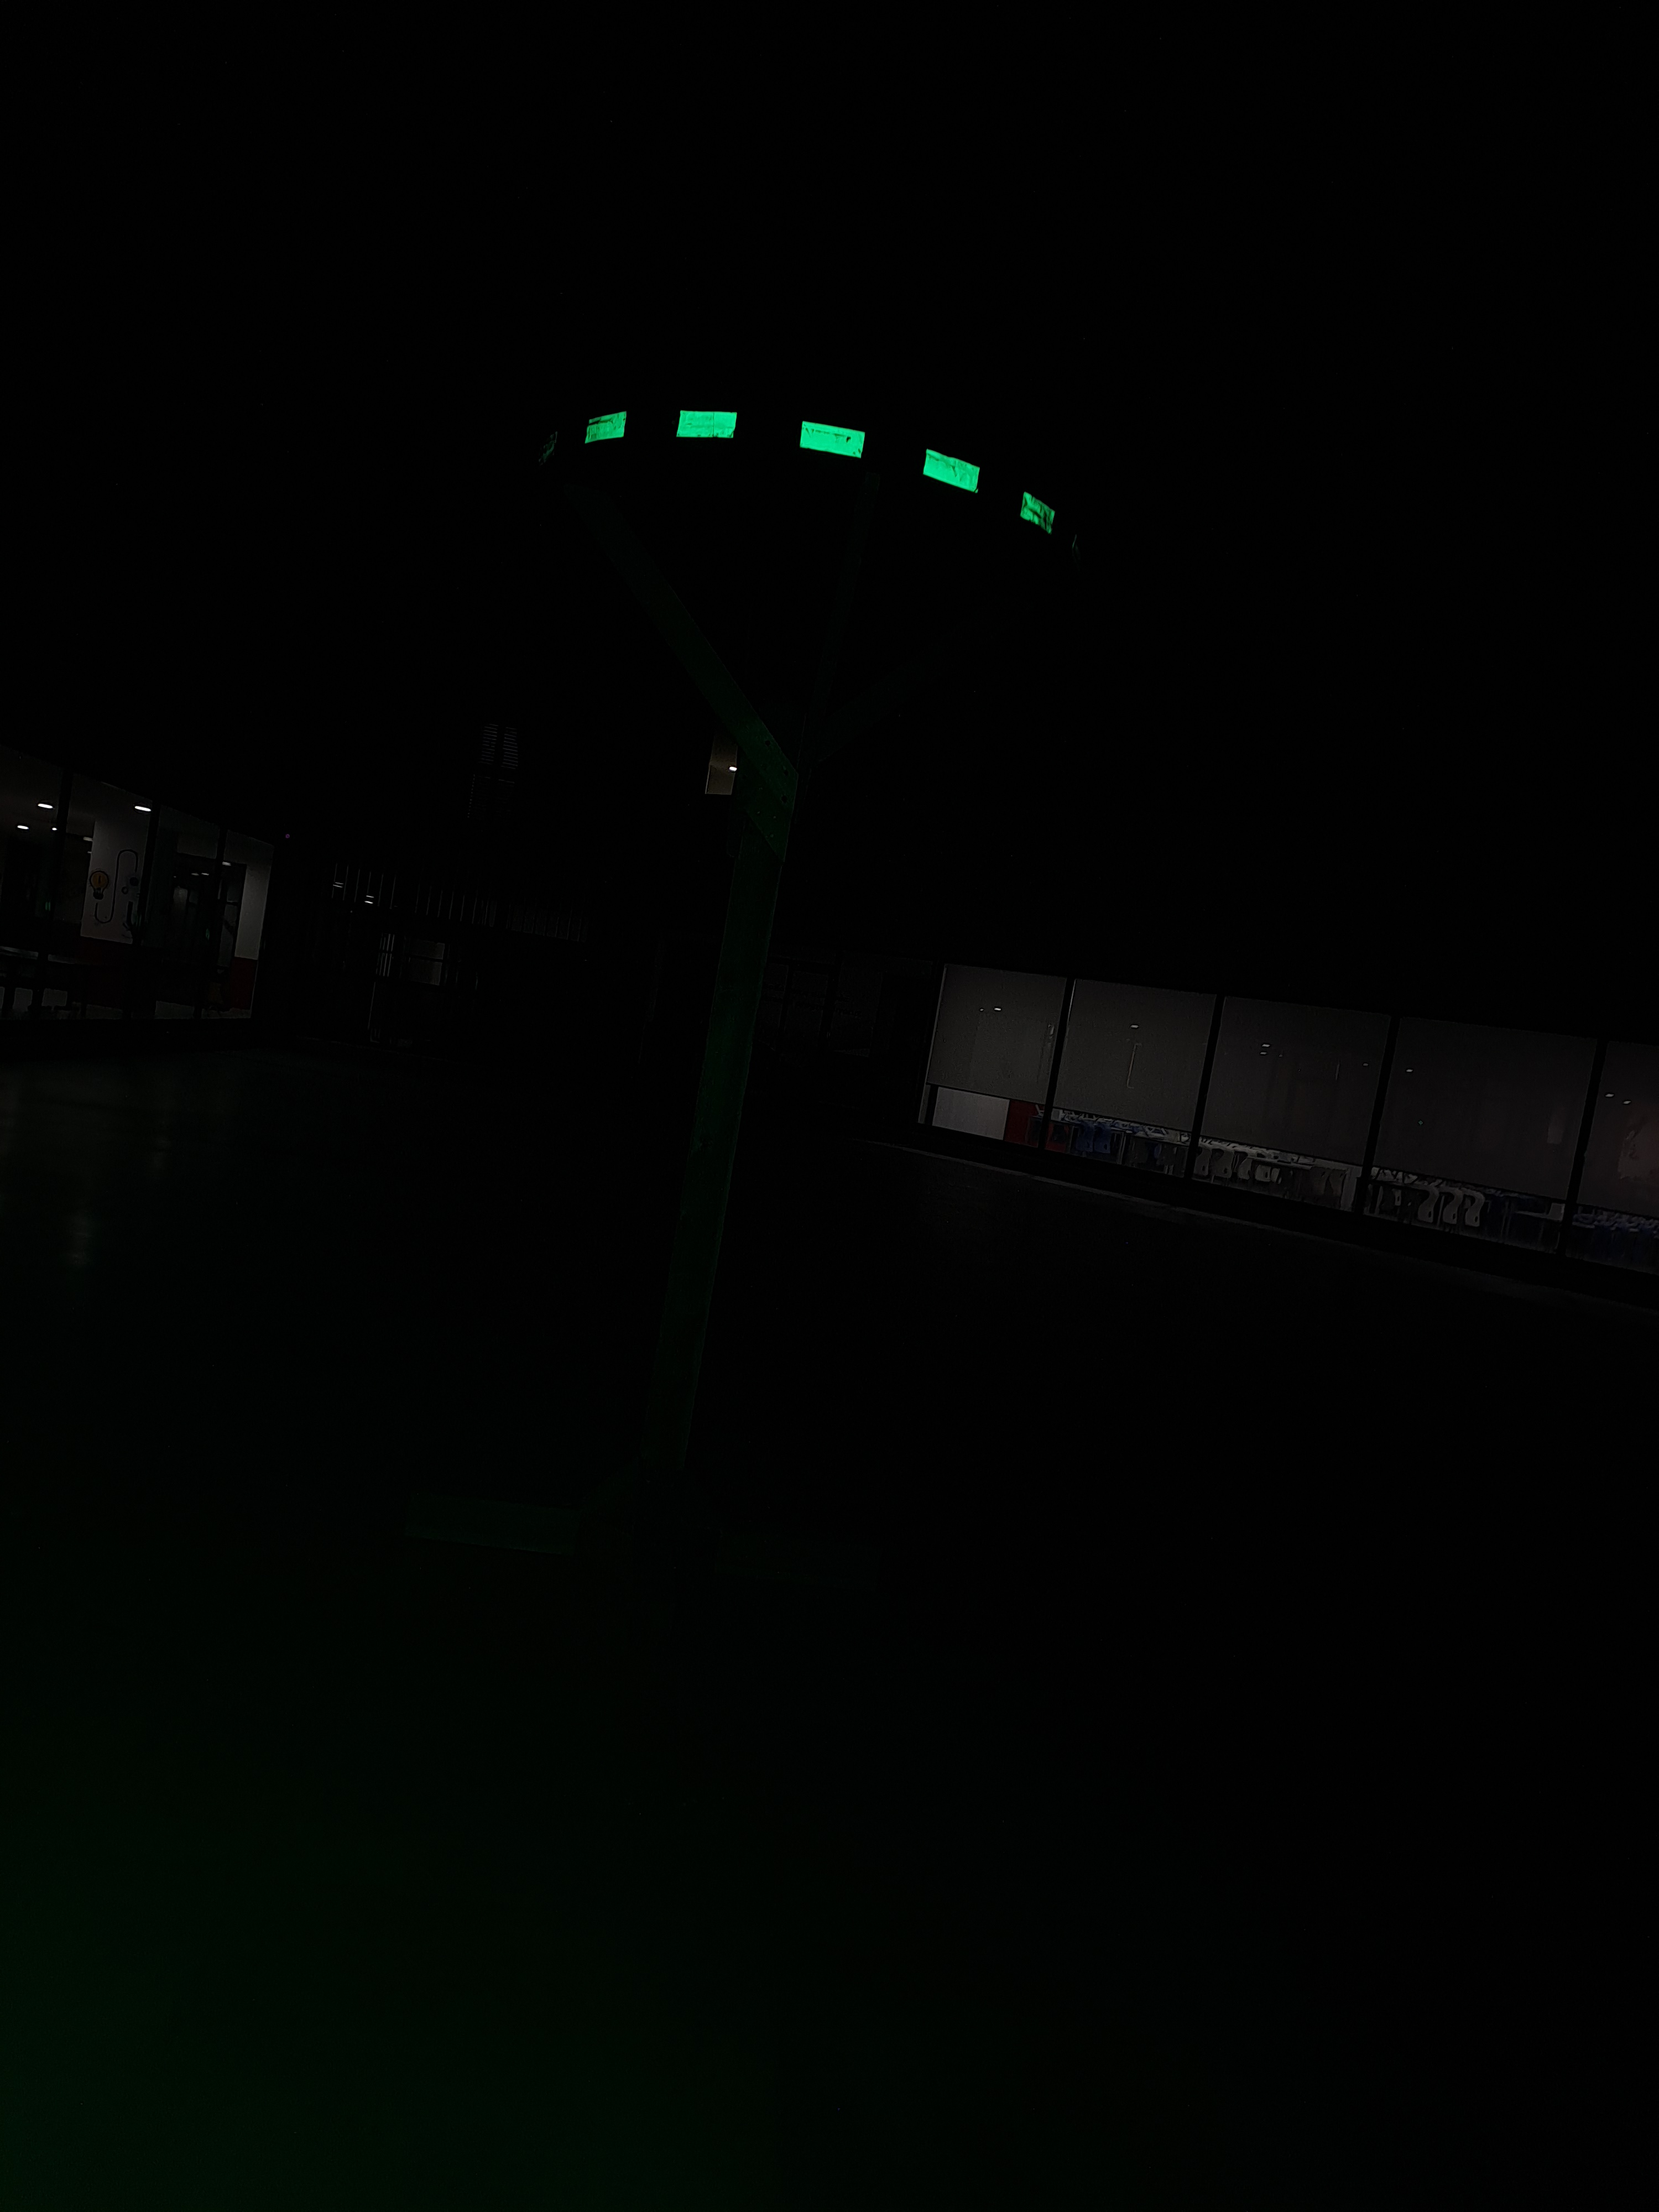hoop: (582, 394, 1060, 547)
